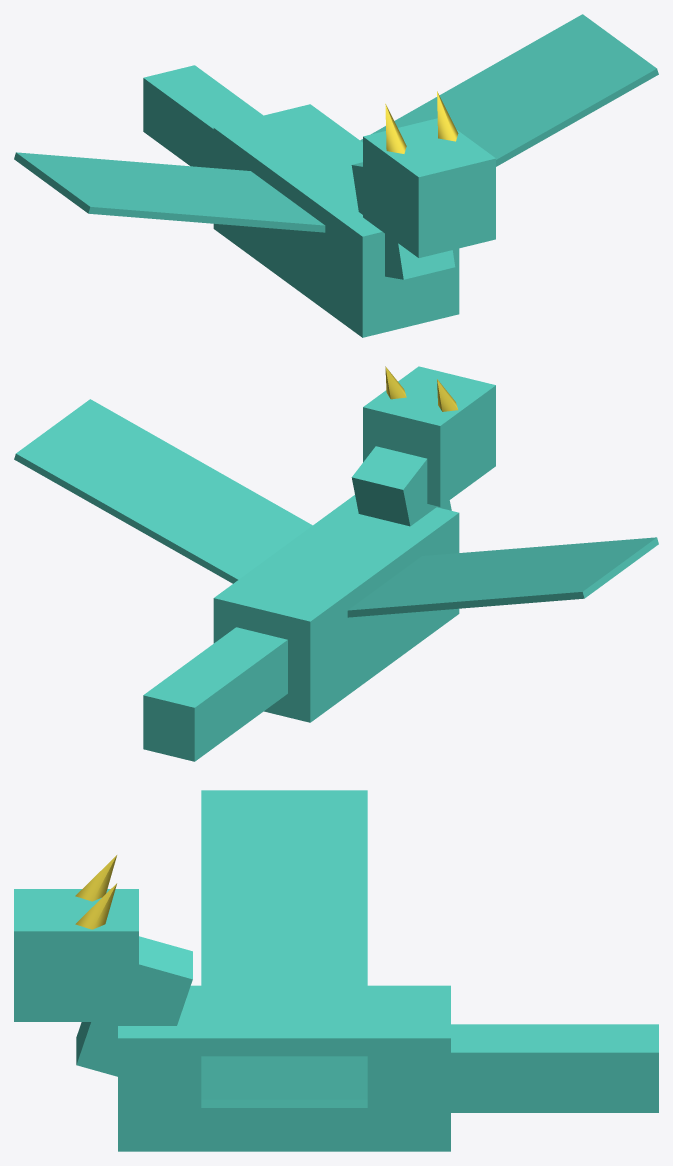
The model's file is dragon.glb.
3 renders of one model, top to bottom at view 1: azimuth 30°, elevation 25°; view 2: azimuth 150°, elevation 25°; view 3: azimuth 270°, elevation 25°, orthographic. The views are drawn at different scales.
Size of the model in its own units: 8.85 by 3.4 by 7.75.
